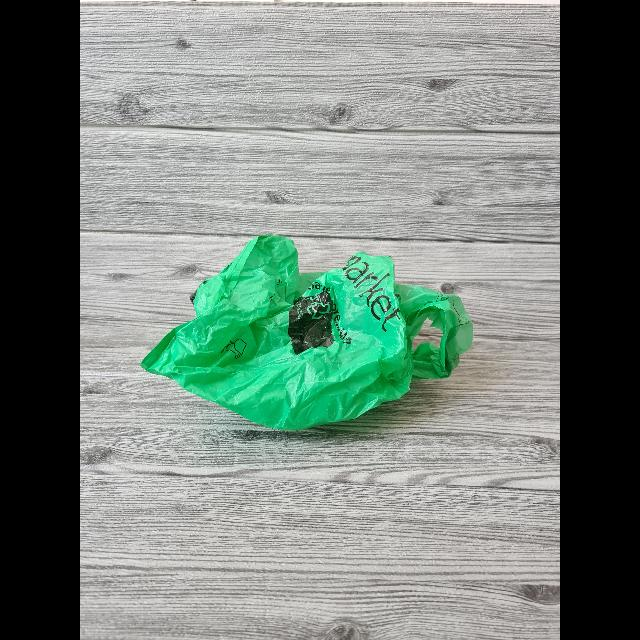plastic_bag: (137, 220, 473, 454)
